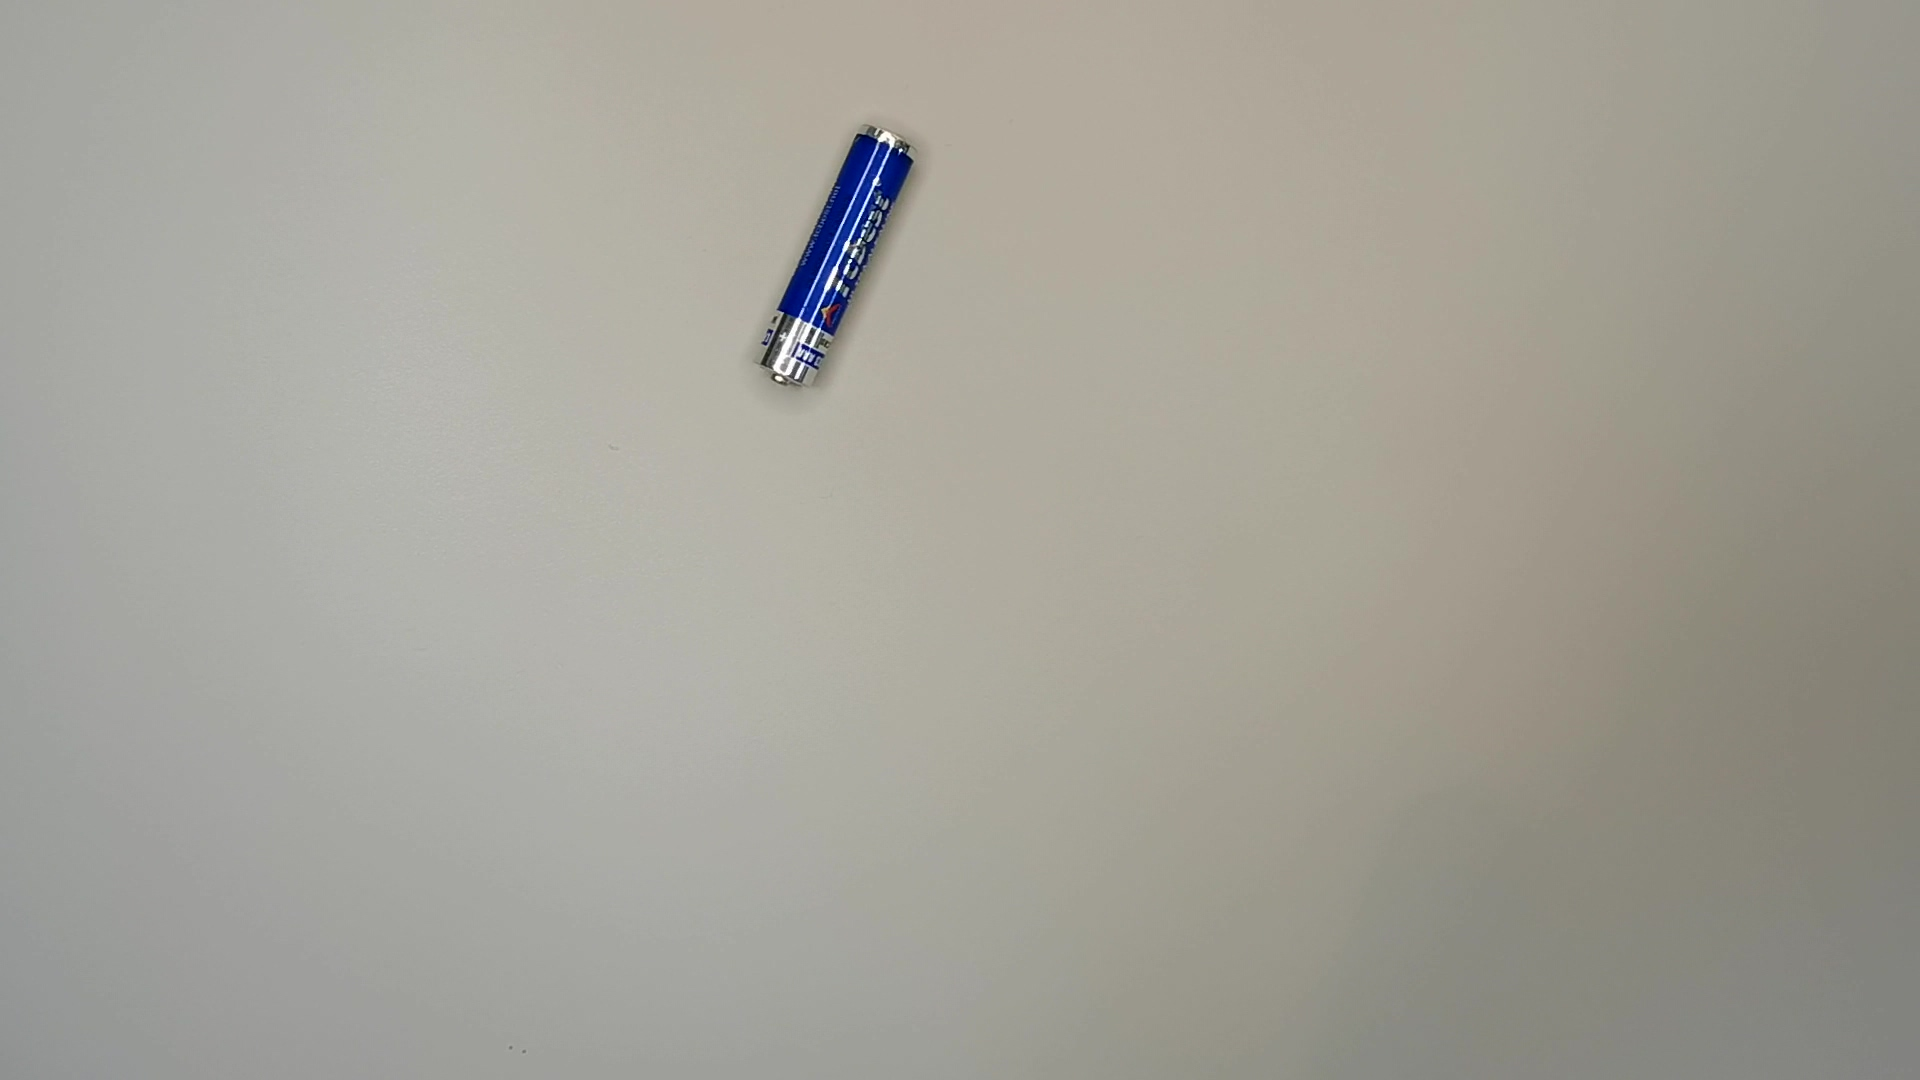battery: (758, 115, 919, 386)
